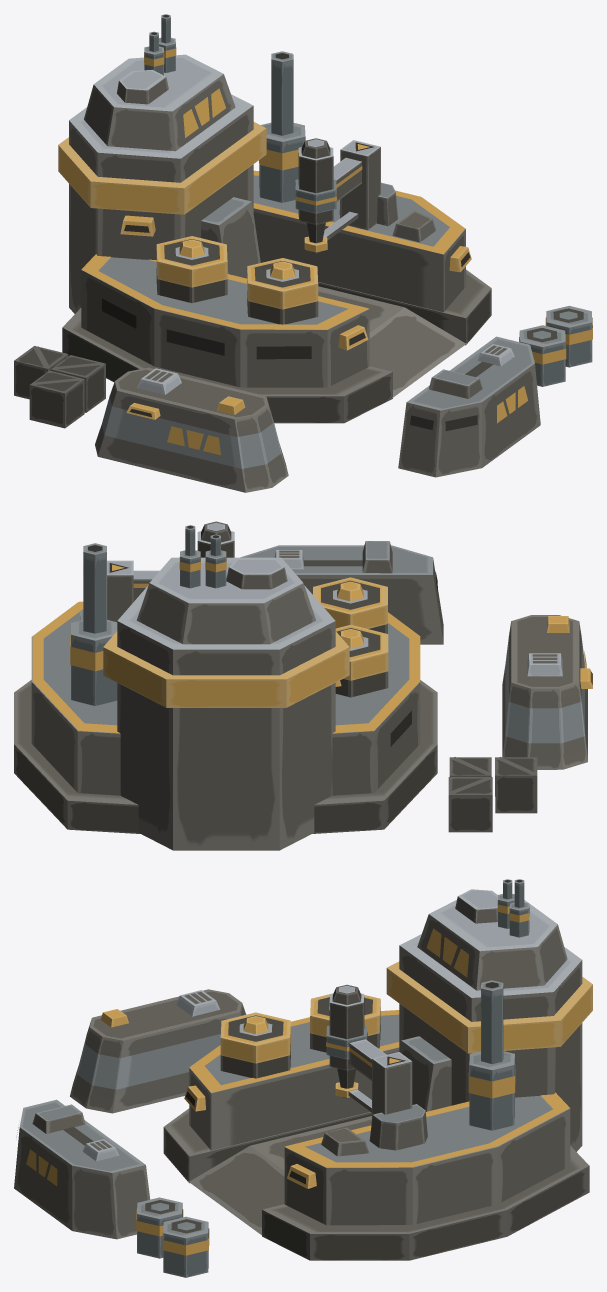
File: mint3.FBX
3 views of the same model, one above another, from view 1: azimuth 30°, elevation 25°; view 2: azimuth 150°, elevation 25°; view 3: azimuth 270°, elevation 25° (orthographic). The views are drawn at different scales.
Visible parts, largest first — view 1: mint3, b, a, c; view 2: mint3, c, b, a, d; view 3: mint3, b, a, c.
Part boxes in pixels (x1=…): mint3: x1=14, y1=14, x2=592, y2=492; b: x1=295, y1=140, x2=398, y2=252; a: x1=298, y1=138, x2=333, y2=252; c: x1=271, y1=51, x2=293, y2=135; mint3: x1=14, y1=525, x2=592, y2=850; c: x1=83, y1=543, x2=106, y2=633; b: x1=80, y1=560, x2=159, y2=621; a: x1=197, y1=521, x2=234, y2=557; d: x1=337, y1=581, x2=363, y2=601; mint3: x1=14, y1=879, x2=592, y2=1277; b: x1=326, y1=1025, x2=427, y2=1150; a: x1=329, y1=984, x2=364, y2=1098; c: x1=481, y1=980, x2=503, y2=1064.
Bounding box in the file's own units: 155 × 161 × 85.07.
